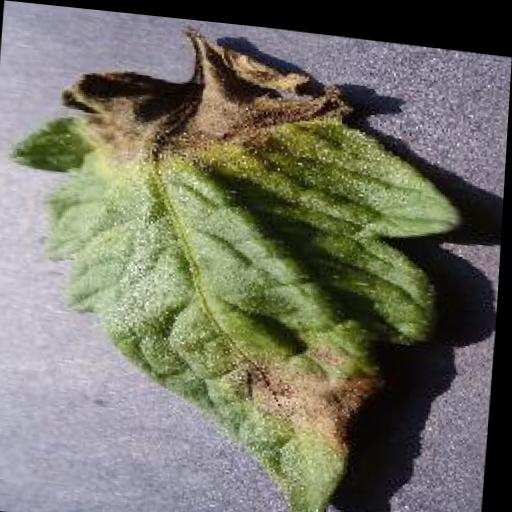Late Blight: (0, 14, 474, 512)
